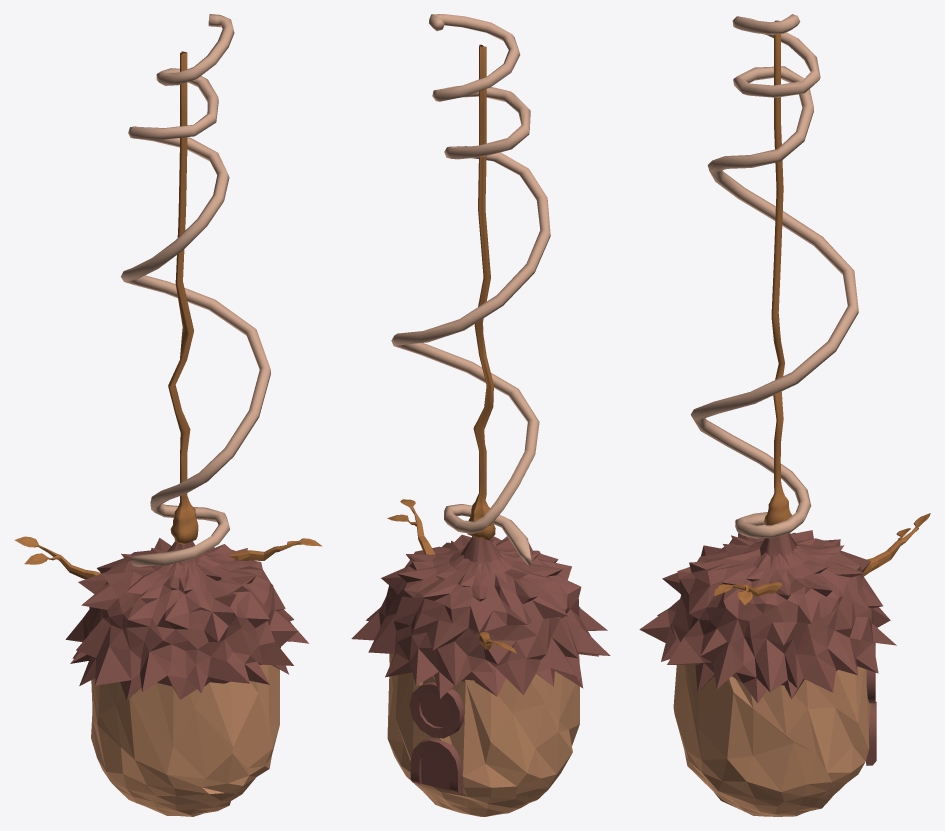
File: 房子短.fbx
The picture shows the model from 3 angles, left to right: view 1: azimuth 30°, elevation 25°; view 2: azimuth 150°, elevation 25°; view 3: azimuth 270°, elevation 25°; orthographic projection. The views are drawn at different scales.
Parts seen in each view (by area): view 1: polySurface2, polySurface1, pDisc1_displacement1, polySurface5, pasted__pasted__pCube1, pasted__pCube1; view 2: polySurface2, polySurface1, pDisc1_displacement1, pasted__pTorus1 (×2), polySurface5, pasted__pCube1; view 3: polySurface2, polySurface1, pDisc1_displacement1, polySurface5, pasted__pasted__pCube1, pasted__pCube1.
Part boxes in pixels (box(x1,y1,x2,y2)): polySurface2: box(65, 538, 308, 700); polySurface1: box(91, 664, 279, 816); pDisc1_displacement1: box(121, 14, 270, 566); polySurface5: box(168, 51, 198, 545); pasted__pasted__pCube1: box(14, 536, 100, 579); pasted__pCube1: box(229, 538, 322, 561); polySurface2: box(351, 534, 610, 698); polySurface1: box(387, 653, 579, 816); pDisc1_displacement1: box(391, 14, 550, 565); pasted__pTorus1 (×2): box(409, 682, 464, 793); polySurface5: box(467, 44, 495, 540); pasted__pCube1: box(387, 499, 435, 554); polySurface2: box(639, 530, 896, 703); polySurface1: box(673, 665, 871, 816); pDisc1_displacement1: box(690, 14, 858, 538); polySurface5: box(764, 20, 792, 525); pasted__pasted__pCube1: box(862, 513, 930, 576); pasted__pCube1: box(714, 582, 782, 604).
Size of the model in its own units: 2.68 by 9.14 by 2.98.
